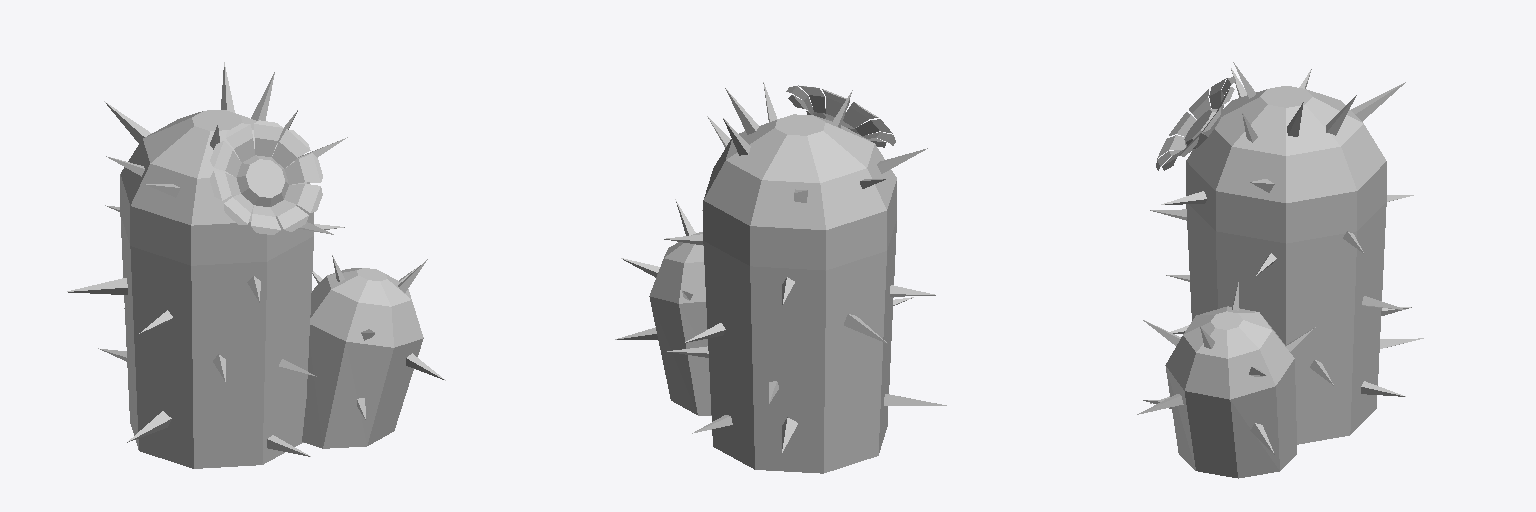
The model's file is PUSHILIN_cactus.obj.
The picture shows the model from 3 angles: view 1: azimuth 30°, elevation 25°; view 2: azimuth 150°, elevation 25°; view 3: azimuth 270°, elevation 25°; orthographic projection.
Visible parts, largest first — view 1: cactus; view 2: cactus; view 3: cactus.
Part boxes in pixels (x1,y1,x2,y2): cactus: (67,62,445,468); cactus: (615,82,946,473); cactus: (1137,62,1423,478).
Size of the model in its own units: 1.55 by 1.6 by 1.24.